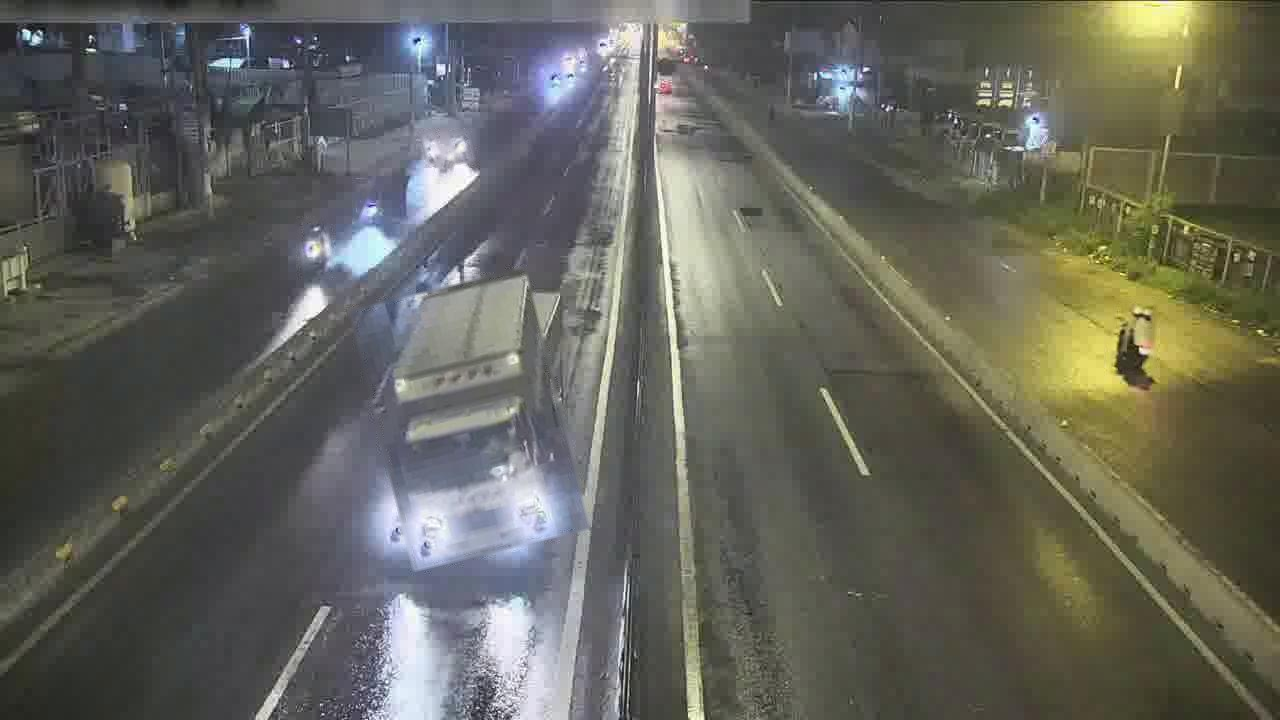Motorcyclist: (1115, 305, 1154, 377), (301, 224, 332, 272), (358, 182, 381, 224), (449, 136, 471, 163), (437, 148, 455, 176), (423, 136, 438, 164)
Truck: (383, 274, 584, 569)
